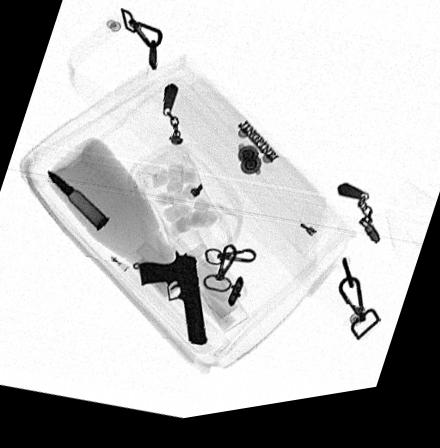Bullet: (45, 173, 106, 232)
Gun: (137, 257, 208, 352)
